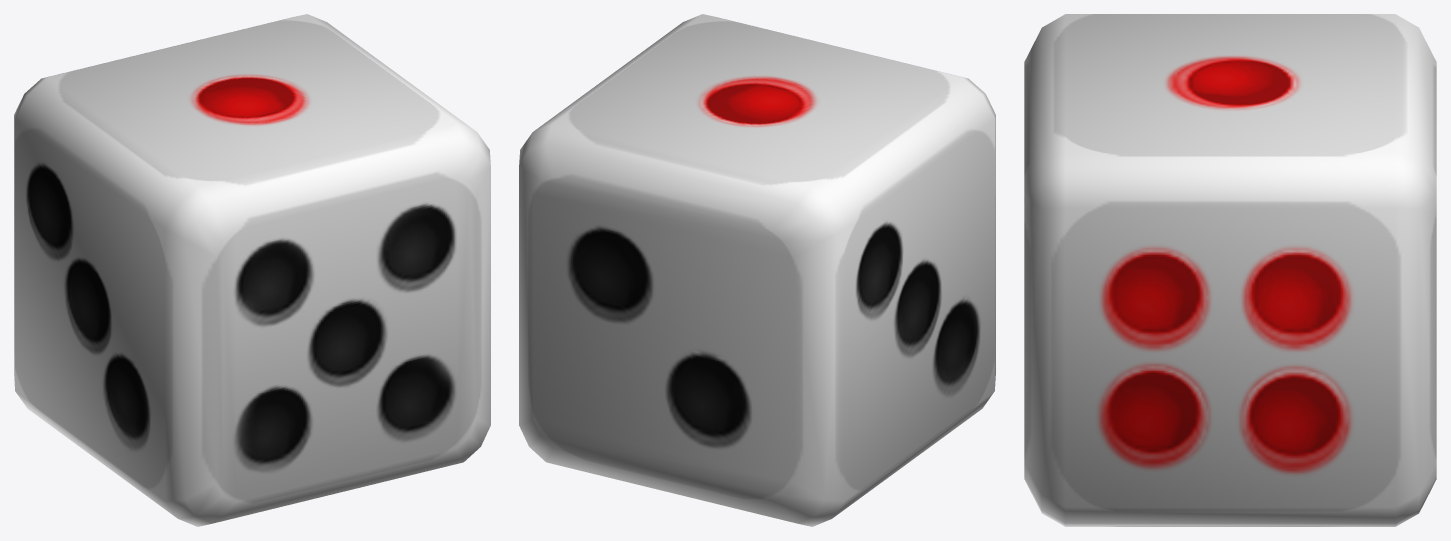
File: shaizi.fbx
The picture shows the model from 3 angles, left to right: view 1: azimuth 30°, elevation 25°; view 2: azimuth 150°, elevation 25°; view 3: azimuth 270°, elevation 25°; orthographic projection. The views are drawn at different scales.
Visible parts, largest first — view 1: shaizi; view 2: shaizi; view 3: shaizi.
Part boxes in pixels (x1=…): shaizi: x1=14, y1=14, x2=490, y2=526; shaizi: x1=519, y1=14, x2=995, y2=526; shaizi: x1=1024, y1=14, x2=1436, y2=526.
Size of the model in its own units: 5.36 by 5.36 by 5.36.
